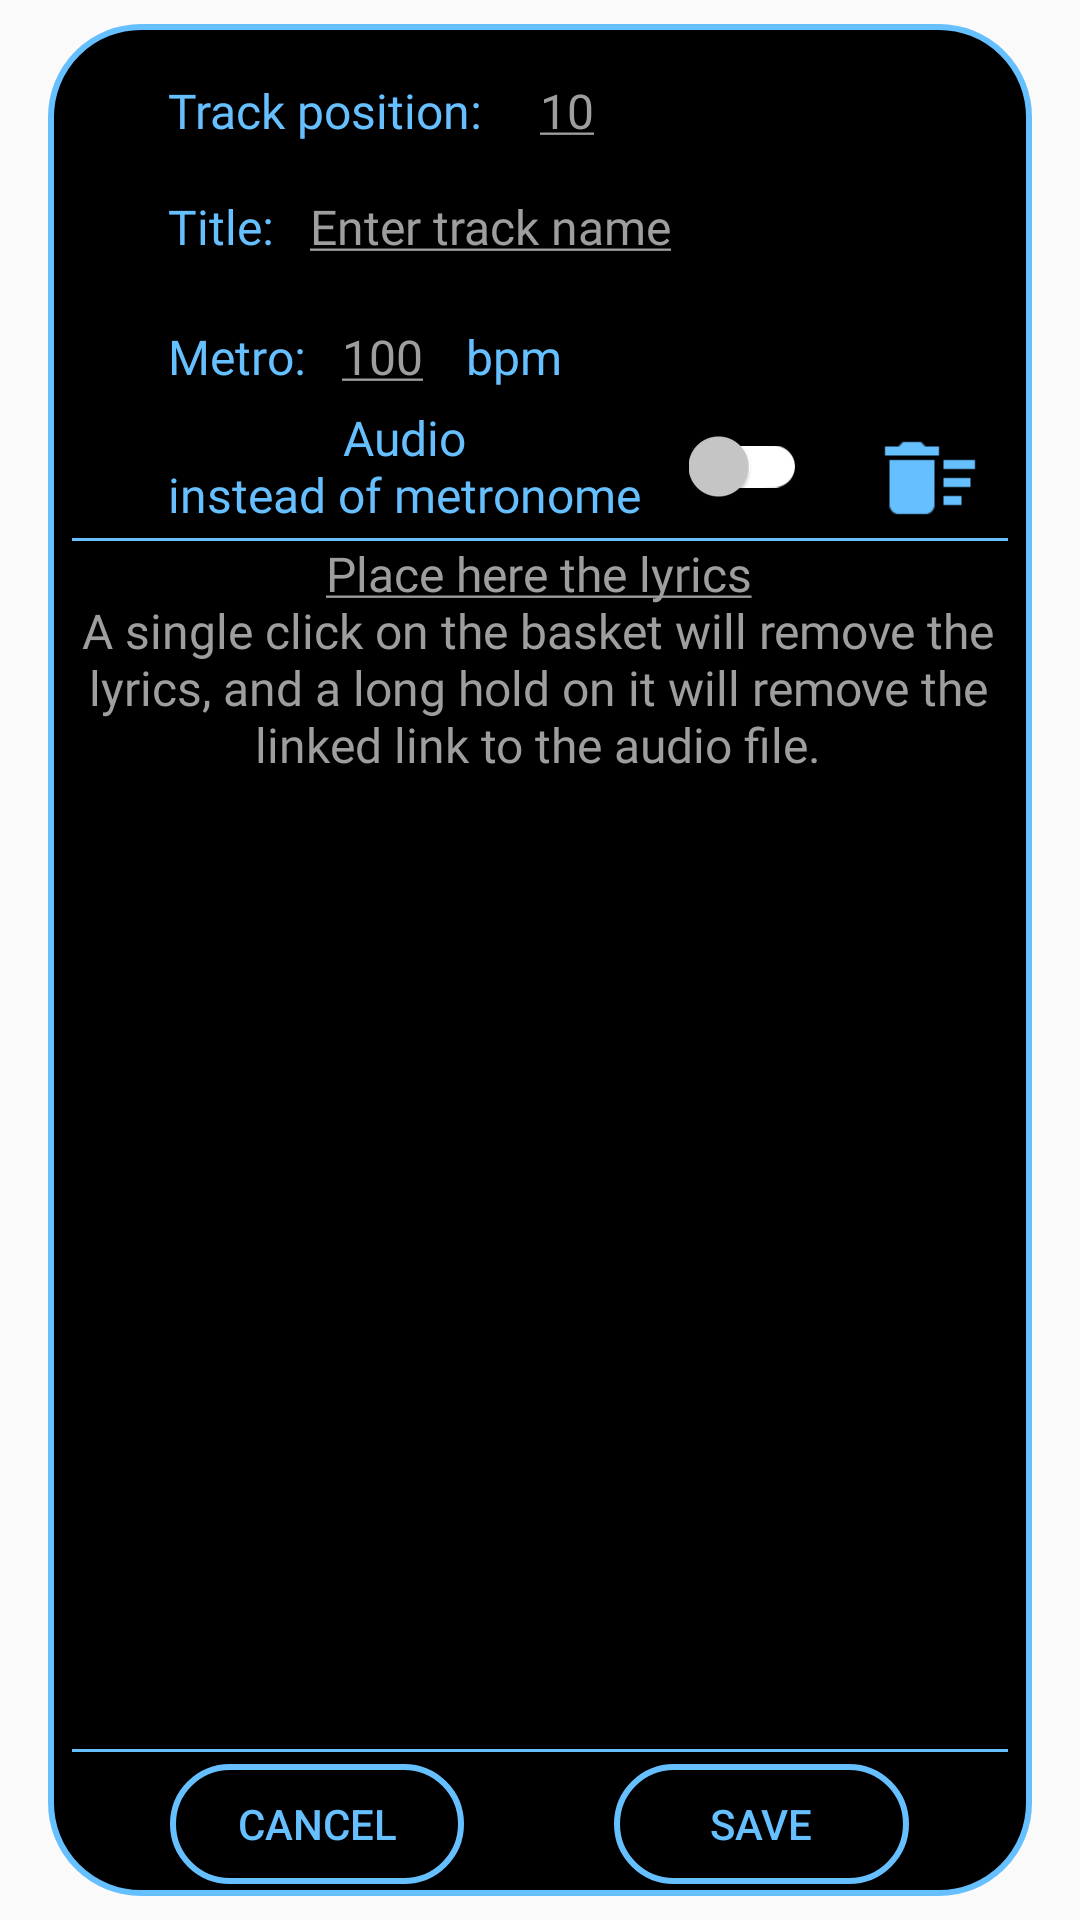

Screen size 1080x1920. Icon name, then its box in pixels as detection(x1, y1, x2, y2):
delete sweep: detection(884, 441, 976, 515)
